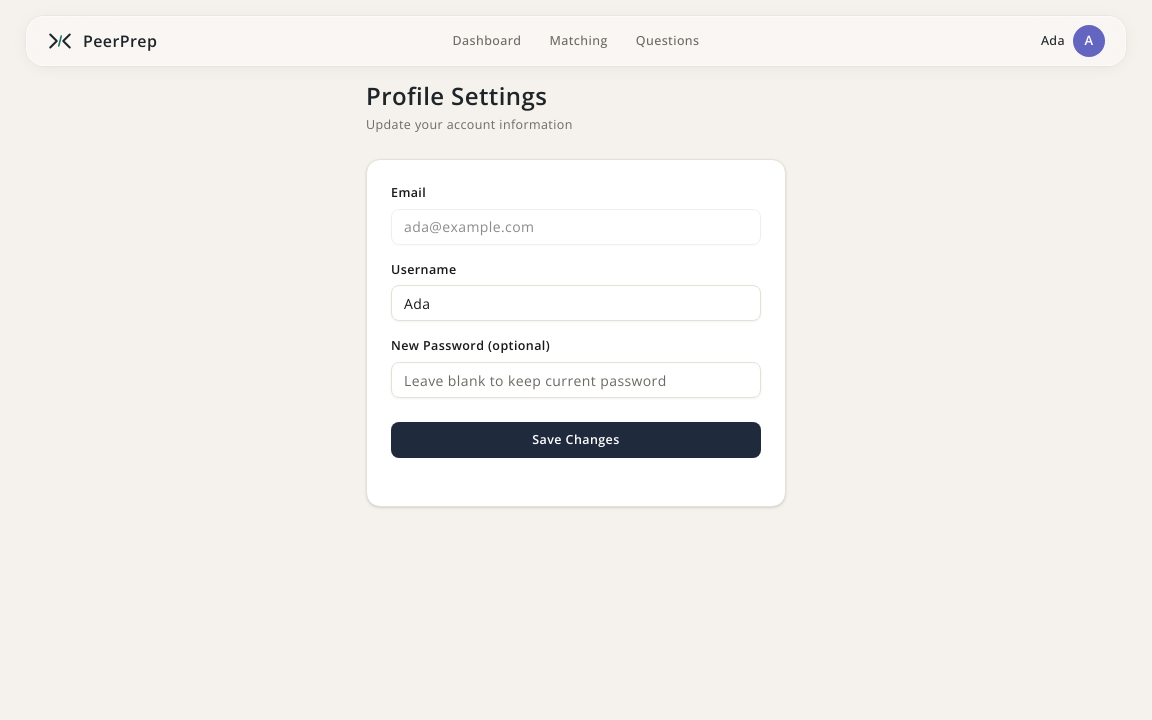
it: ProfilePage › blocks invalid form submission
Clear the field showing "Ada" below "Username": x=576, y=303 [391,285,761,321]
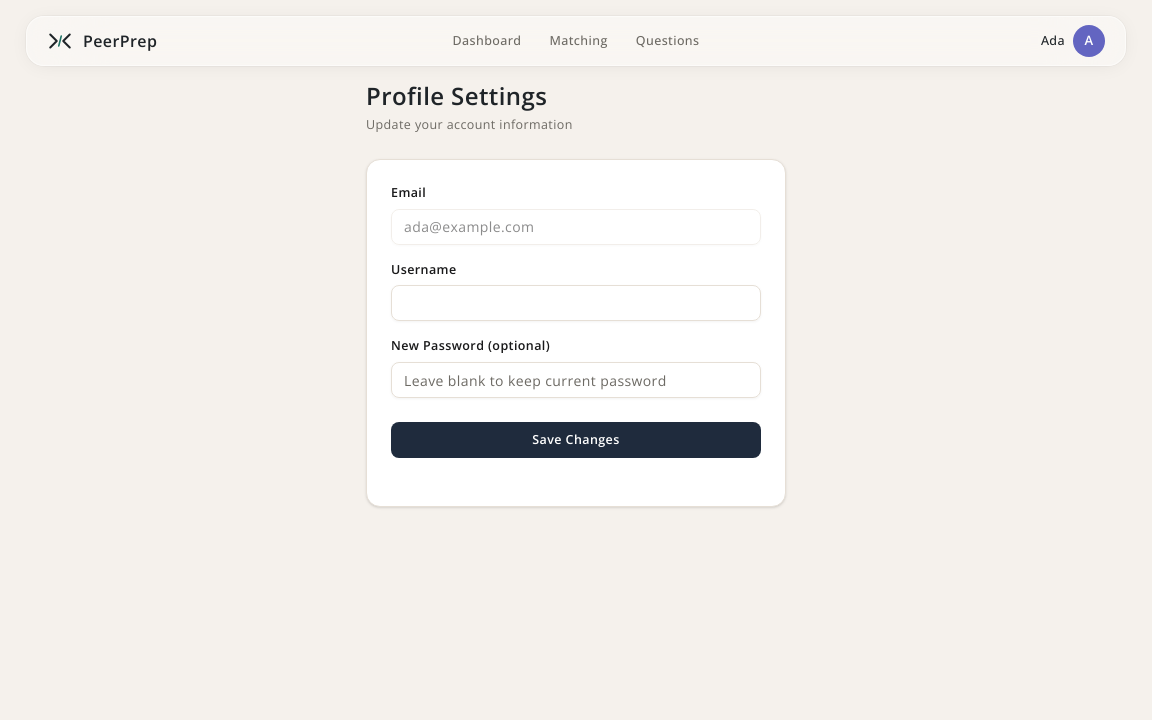
Click the button "Save Changes": x=576, y=440 [391,422,761,458]
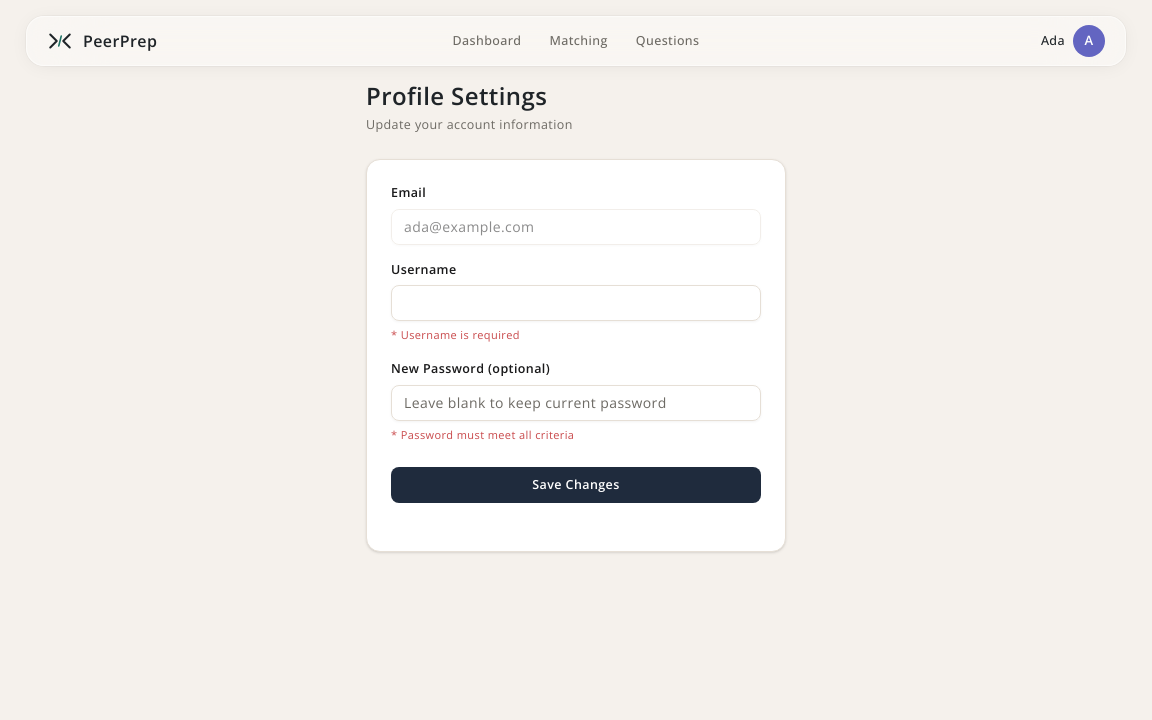
Result: the text "* Username is required" is shown at [391,327,520,342]
